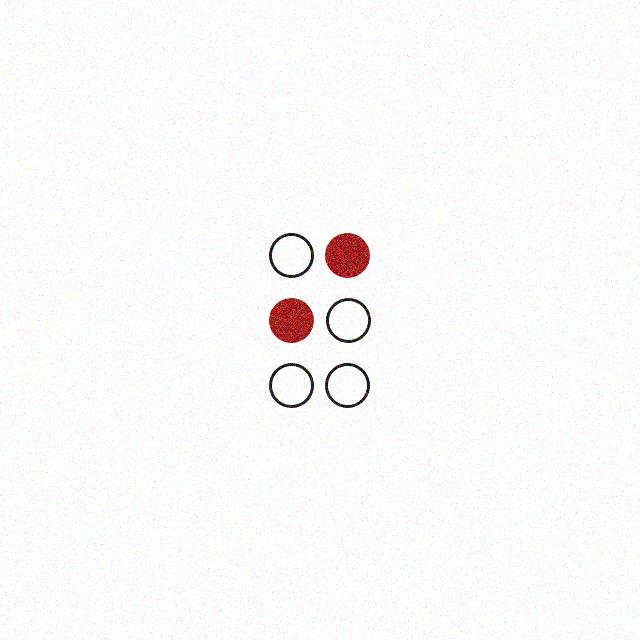I: (263, 223, 373, 417)
